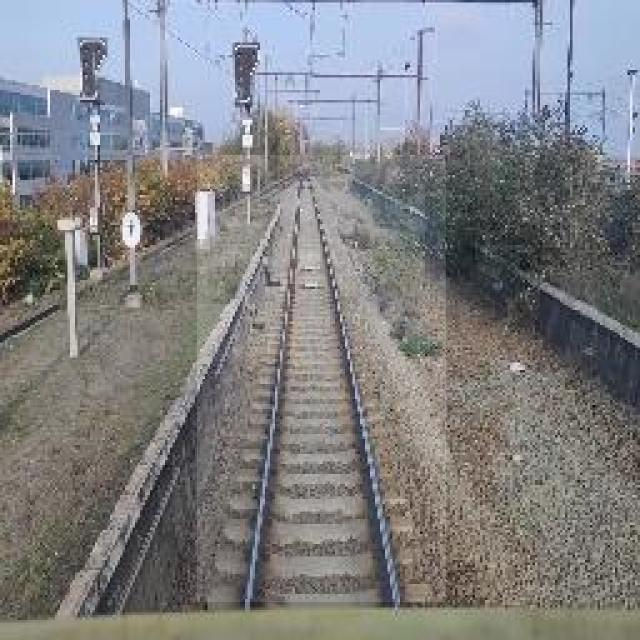rail: (198, 157, 447, 603)
